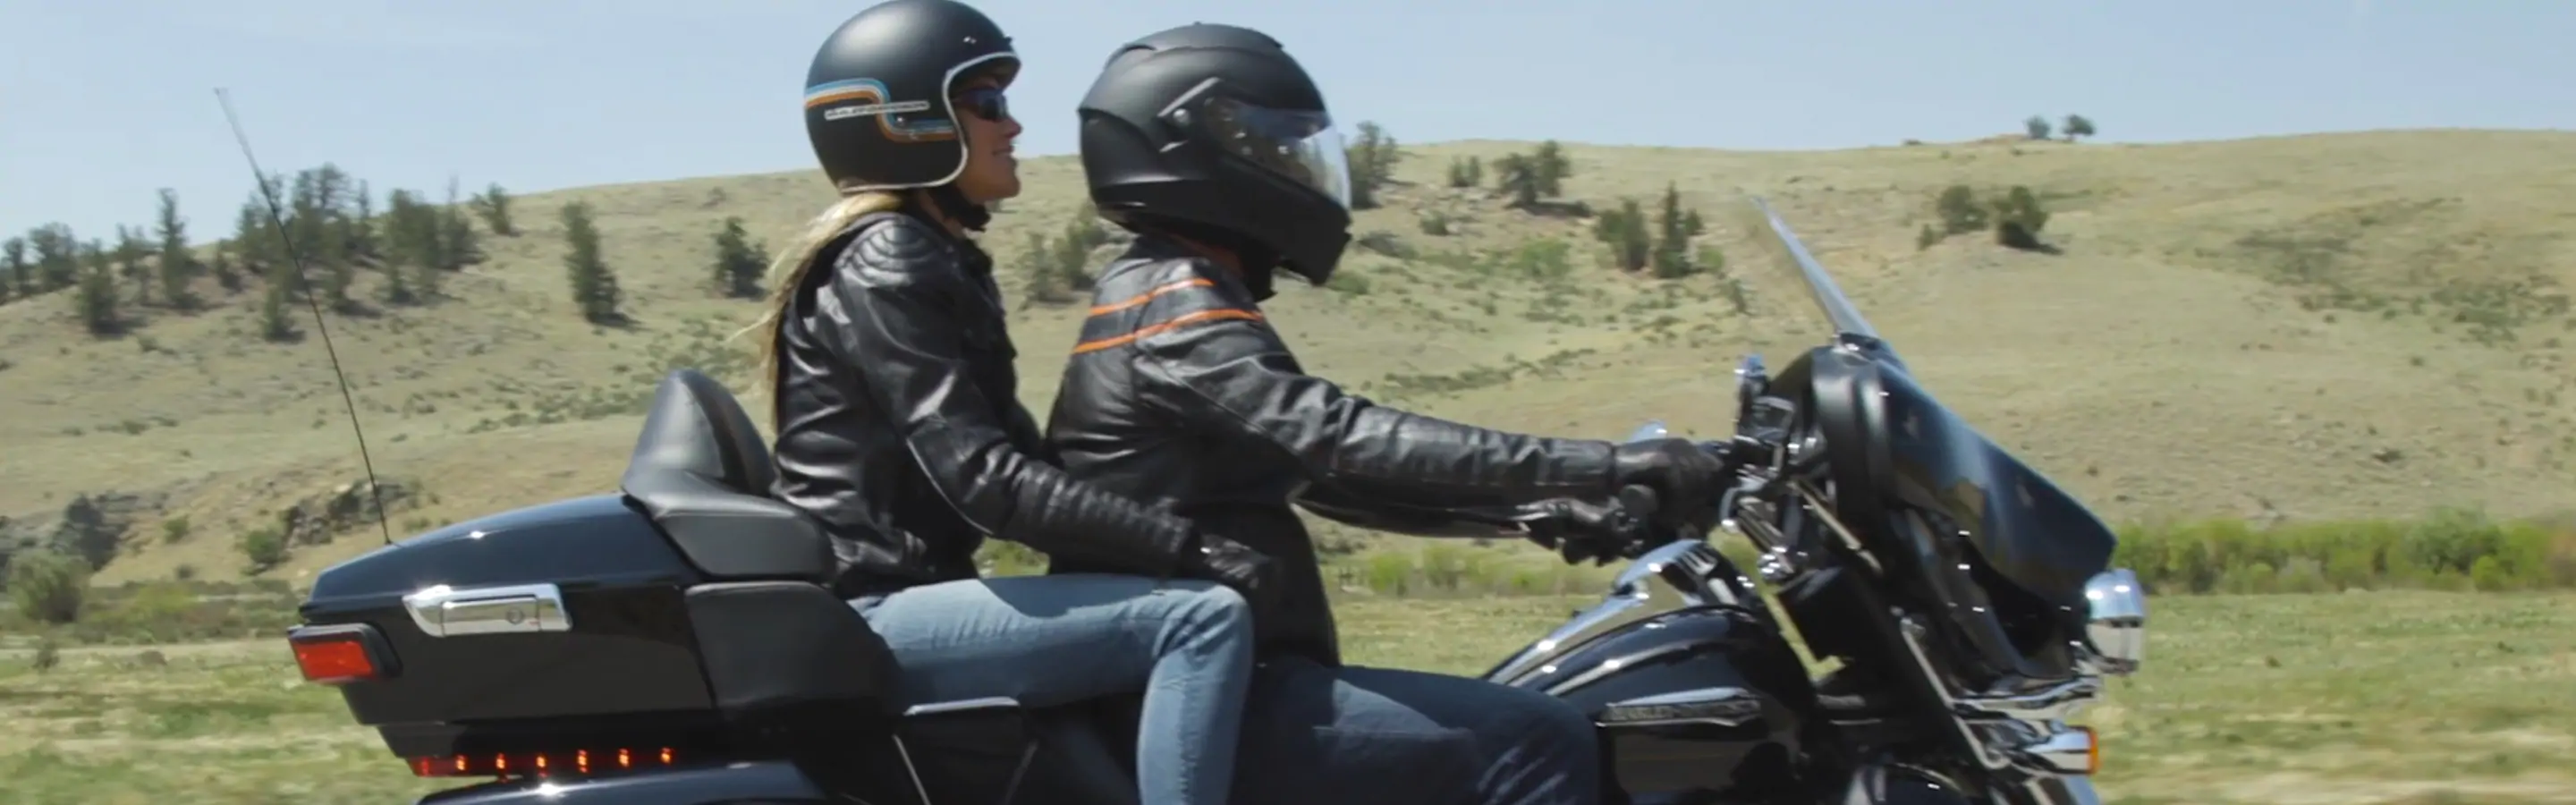helmet: (1058, 13, 1354, 365), (767, 2, 1066, 329)
